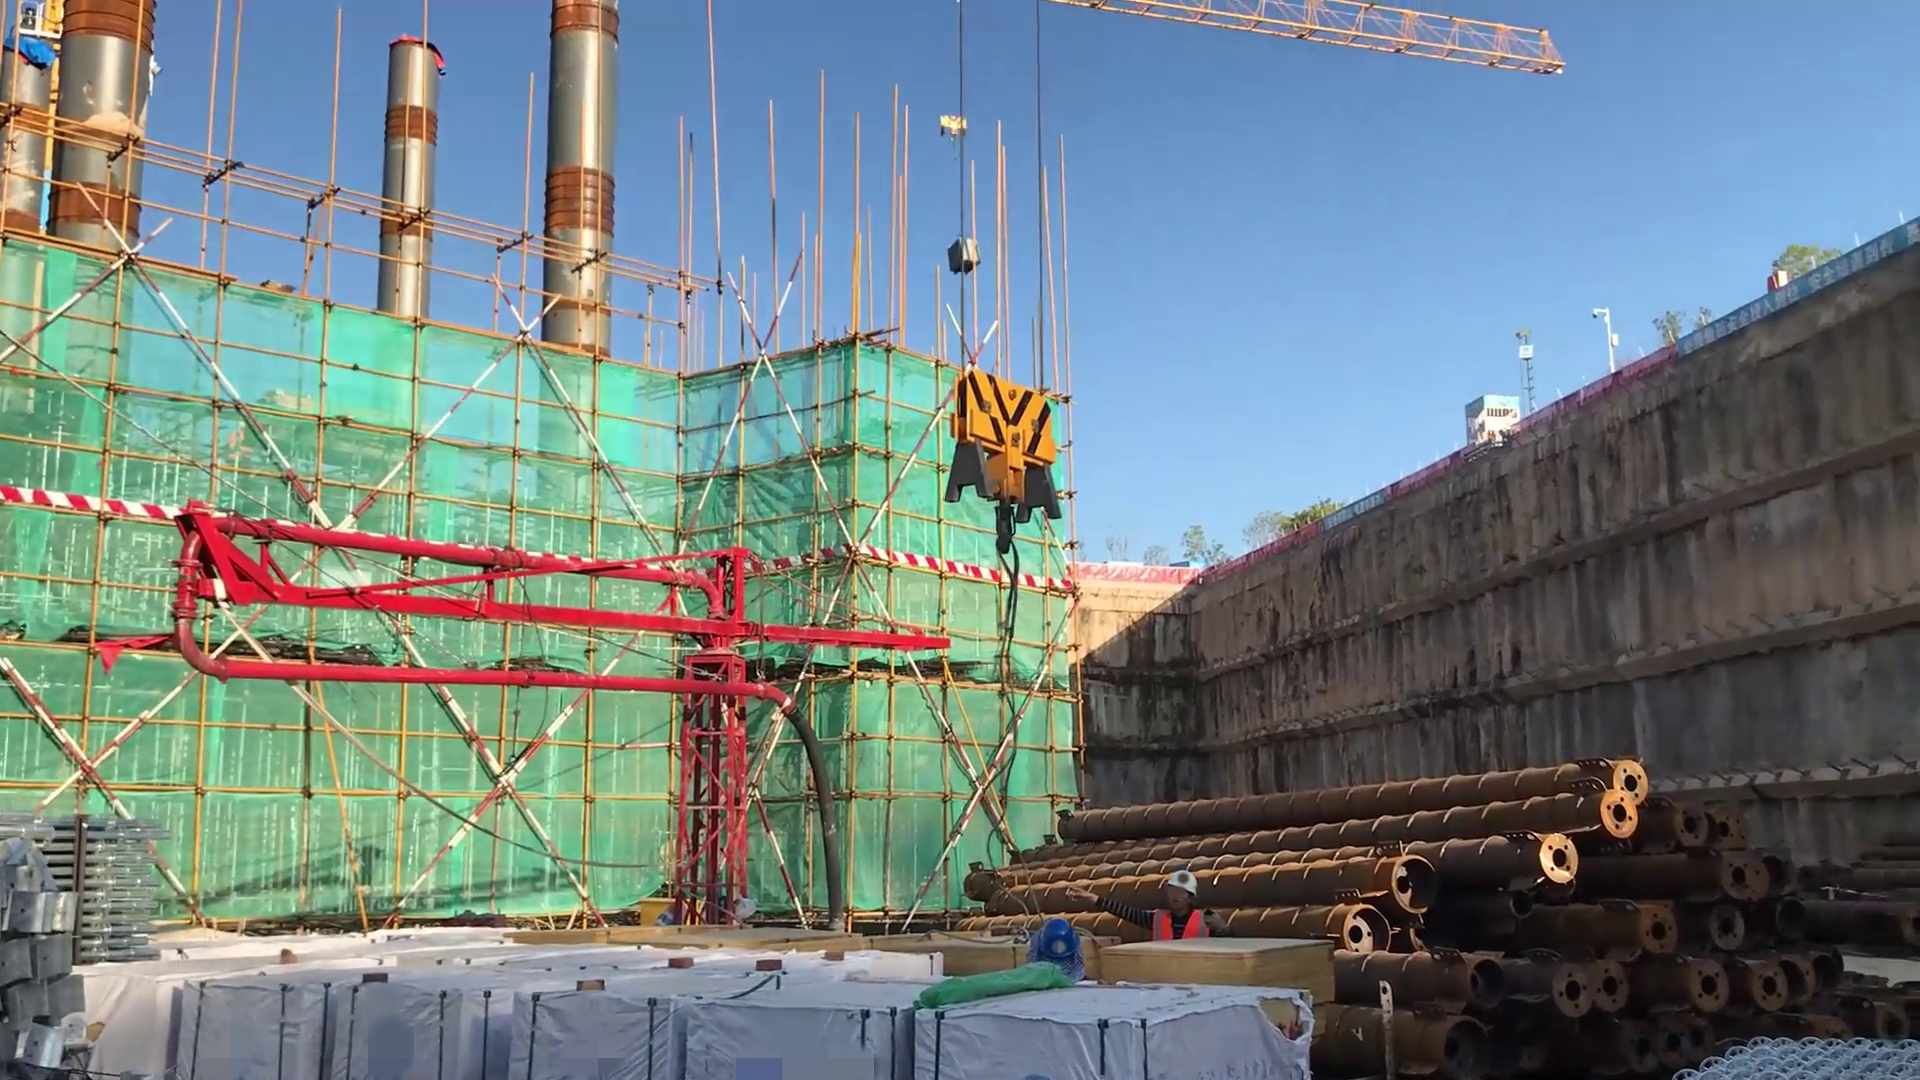board: (1101, 937, 1335, 1010)
ebox: (639, 897, 707, 928)
helmet: (1031, 923, 1084, 983), (1152, 859, 1200, 906)
hook: (947, 348, 1077, 560), (931, 98, 987, 160)
person: (1070, 849, 1229, 968)
scaffold: (23, 802, 166, 974)
slogan: (1676, 189, 1920, 362), (1320, 480, 1394, 537)
vest: (1138, 901, 1216, 954)
